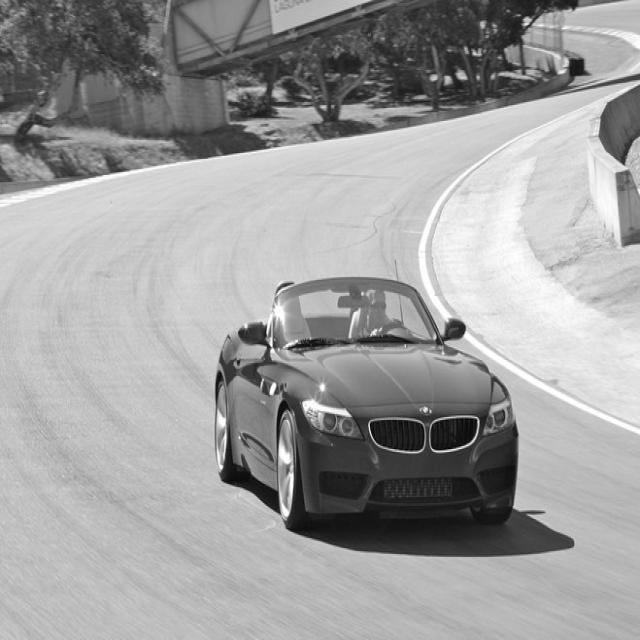car: (214, 276, 518, 530)
